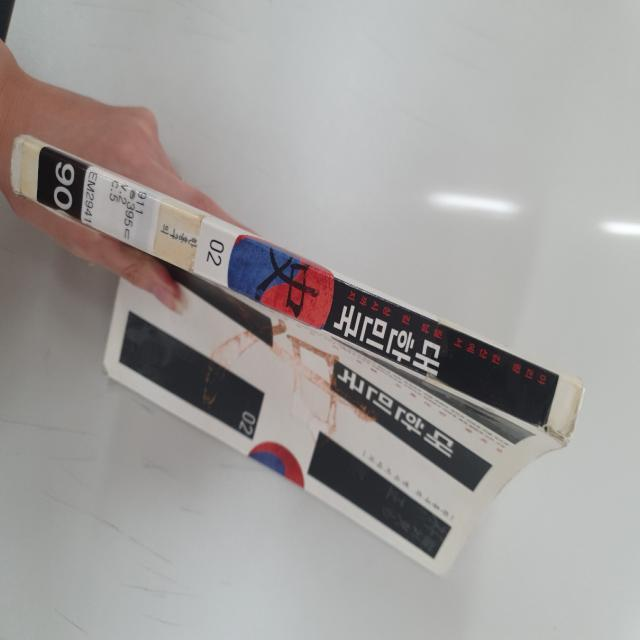Ripped: (536, 420, 577, 462), (566, 369, 591, 420)
Wornout: (89, 347, 123, 390)
